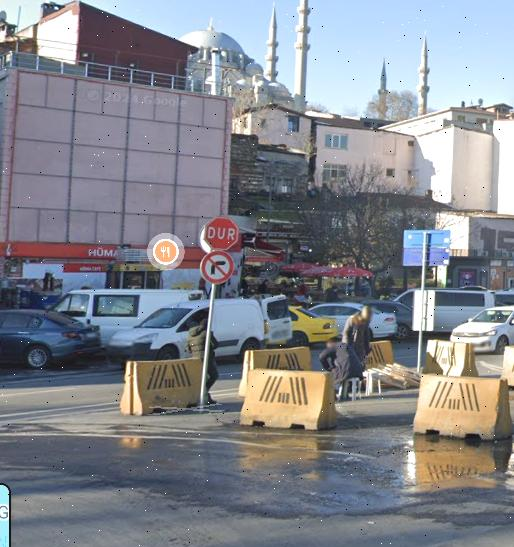rightturnsareforbidden: (201, 252, 230, 281)
stop: (206, 219, 237, 248)
